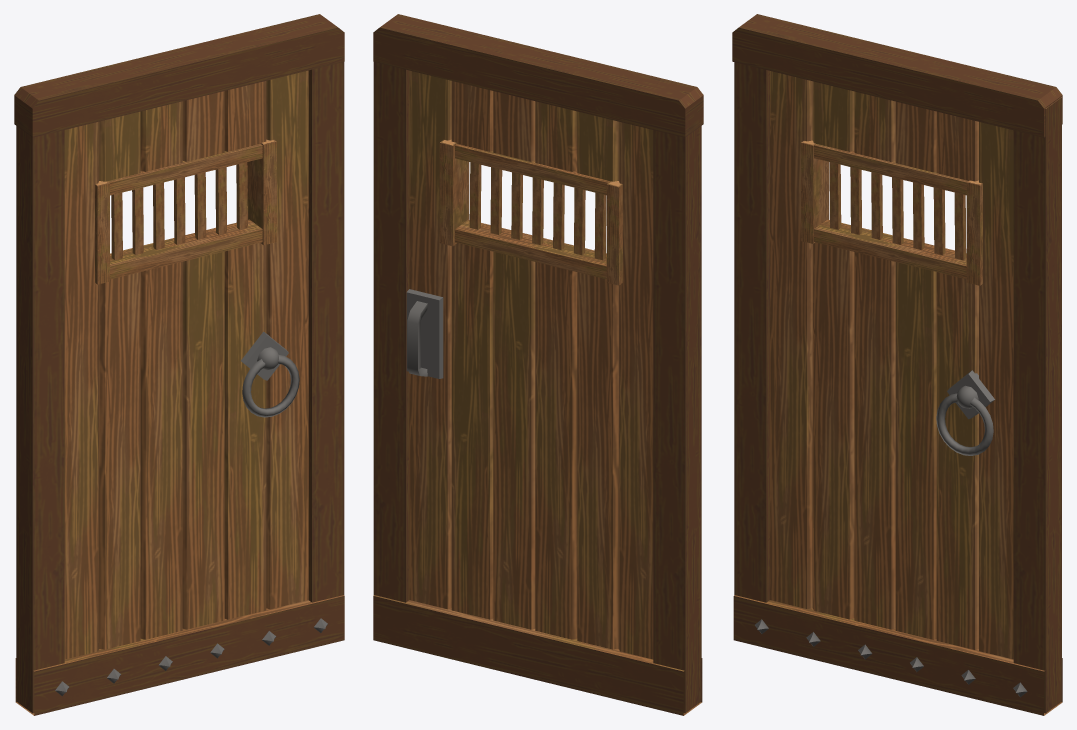
File: Door_8_Flat.gltf
3 views of the same model, side by side, from view 1: azimuth 30°, elevation 25°; view 2: azimuth 150°, elevation 25°; view 3: azimuth 330°, elevation 25° (orthographic).
Visible parts, largest first — view 1: Door_8_Flat; view 2: Door_8_Flat; view 3: Door_8_Flat.
Boxes of the visible parts, box(x1,y1,x2,y2) form: Door_8_Flat: box(14, 14, 344, 715); Door_8_Flat: box(373, 14, 703, 715); Door_8_Flat: box(732, 14, 1062, 715).
Size of the model in its own units: 1.12 by 2.1 by 0.1995.
2 materials, 1 textured.
